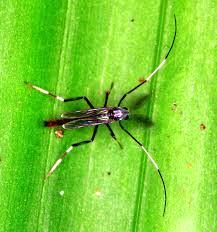Helopeltis-insect: (31, 83, 148, 151)
